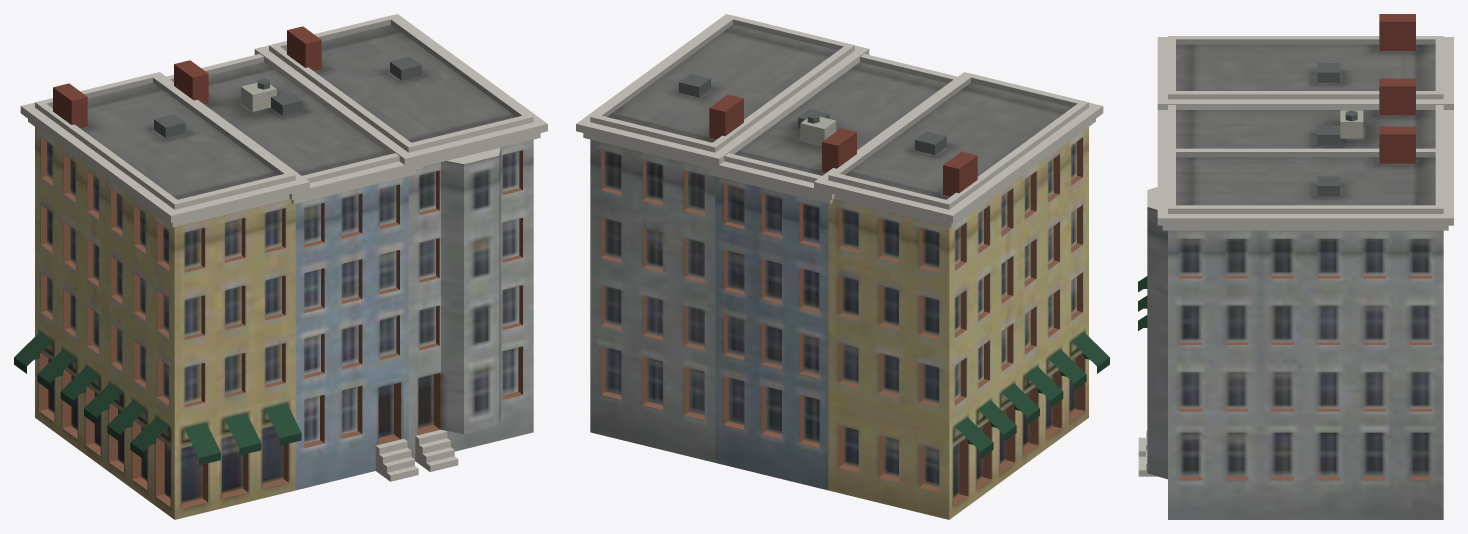
The model's file is dc_brick_row_c.glb.
3 renders of one model, left to right at view 1: azimuth 30°, elevation 25°; view 2: azimuth 150°, elevation 25°; view 3: azimuth 270°, elevation 25°, orthographic.
Parts seen in each view (by area): view 1: dc_brick_row_c; view 2: dc_brick_row_c; view 3: dc_brick_row_c.
Boxes of the visible parts, x1,y1,x2,y2 form: dc_brick_row_c: [14, 14, 547, 519]; dc_brick_row_c: [576, 14, 1109, 519]; dc_brick_row_c: [1138, 14, 1453, 519].
Bounding box in the file's own units: 19.55 × 16.1 × 13.75.
1 material, 1 textured.
